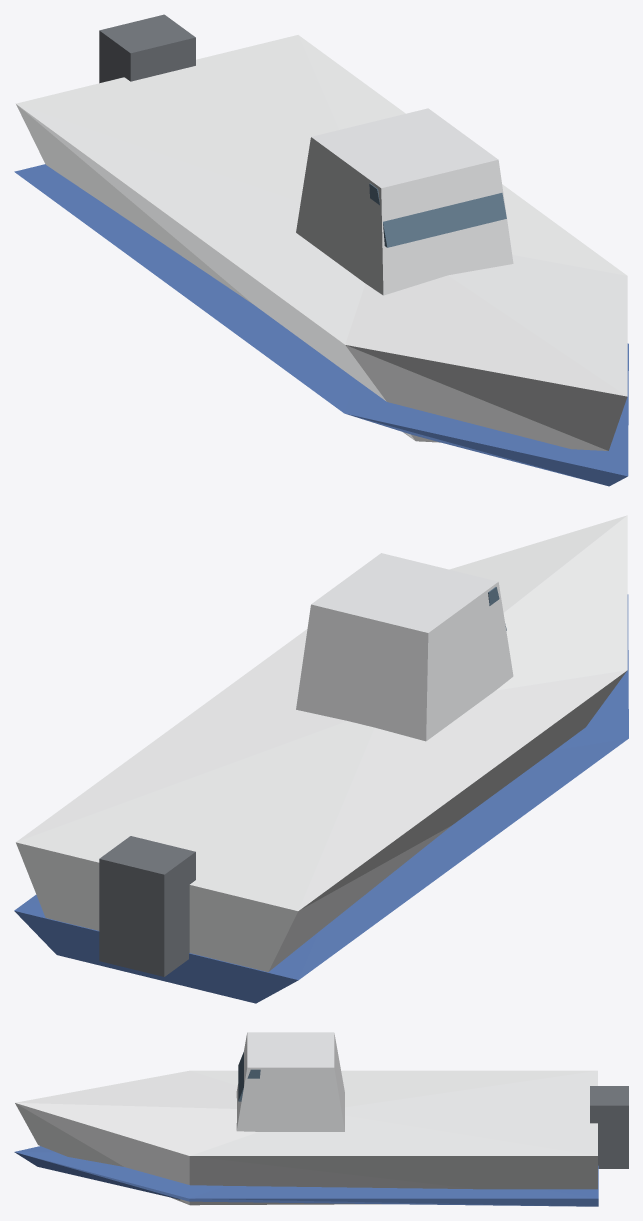
The model's file is synth_small_boat.glb.
3 views of the same model, one above another, from view 1: azimuth 30°, elevation 25°; view 2: azimuth 150°, elevation 25°; view 3: azimuth 270°, elevation 25° (orthographic). The views are drawn at different scales.
Size of the model in its own units: 2.62 by 1.9 by 7.91.
